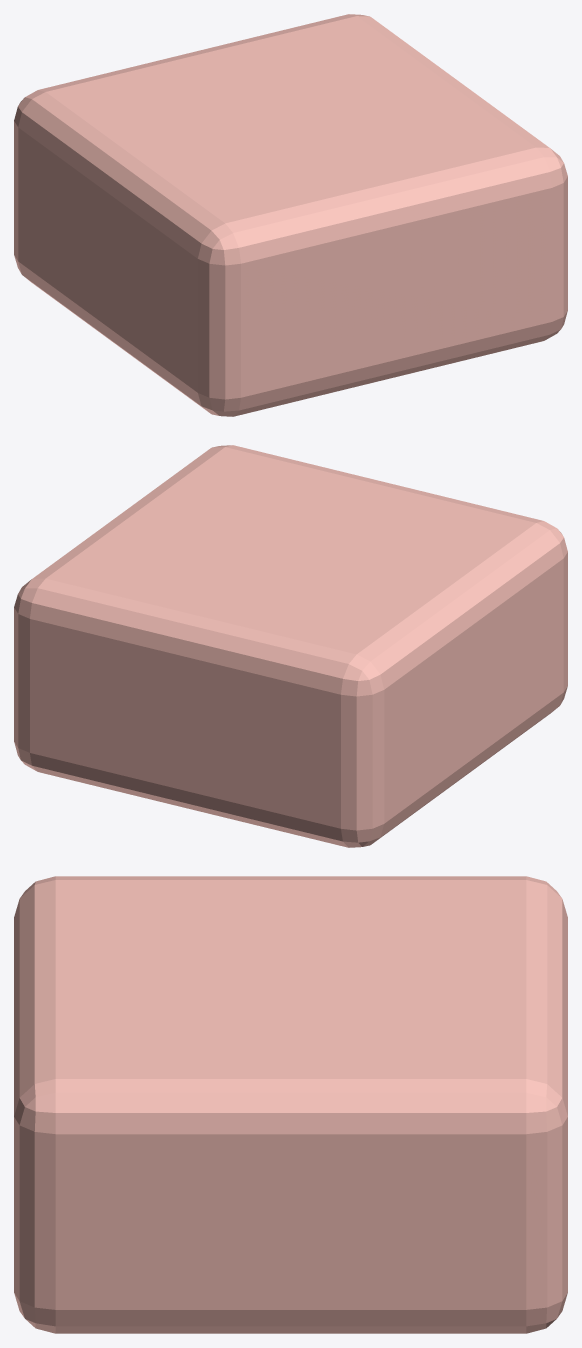
The model's file is piece.glb.
3 renders of one model, top to bottom at view 1: azimuth 30°, elevation 25°; view 2: azimuth 150°, elevation 25°; view 3: azimuth 270°, elevation 25°, orthographic. The views are drawn at different scales.
Parts seen in each view (by area): view 1: Piece; view 2: Piece; view 3: Piece.
Part boxes in pixels (box(x1,y1,x2,y2)): Piece: box(14, 14, 567, 416); Piece: box(14, 445, 567, 847); Piece: box(14, 876, 567, 1333).
Size of what is drawn, in the model's own units: 0.8 by 0.4 by 0.8.
